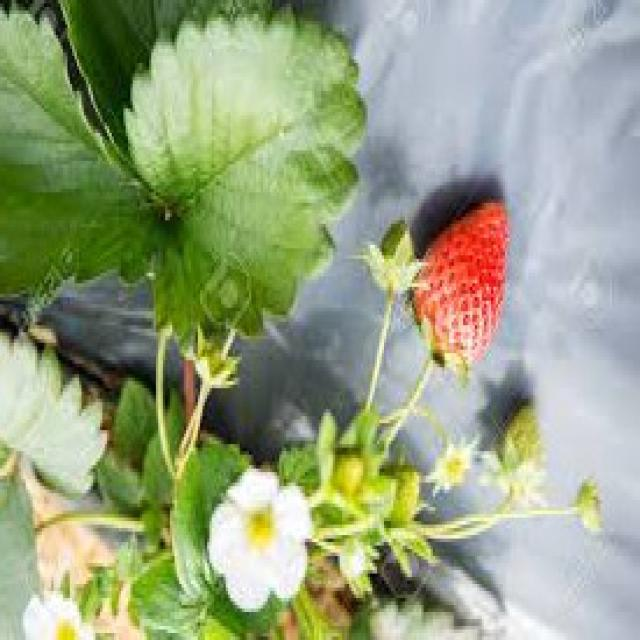mature: (411, 201, 509, 367)
